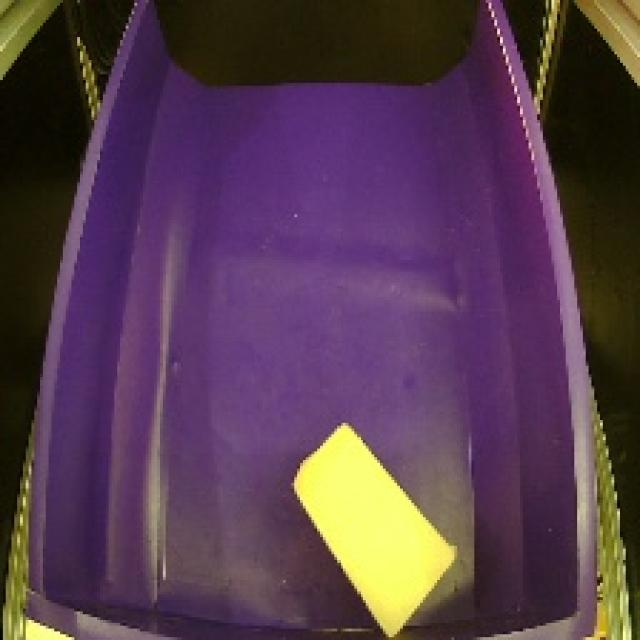potato: (277, 414, 466, 640)
